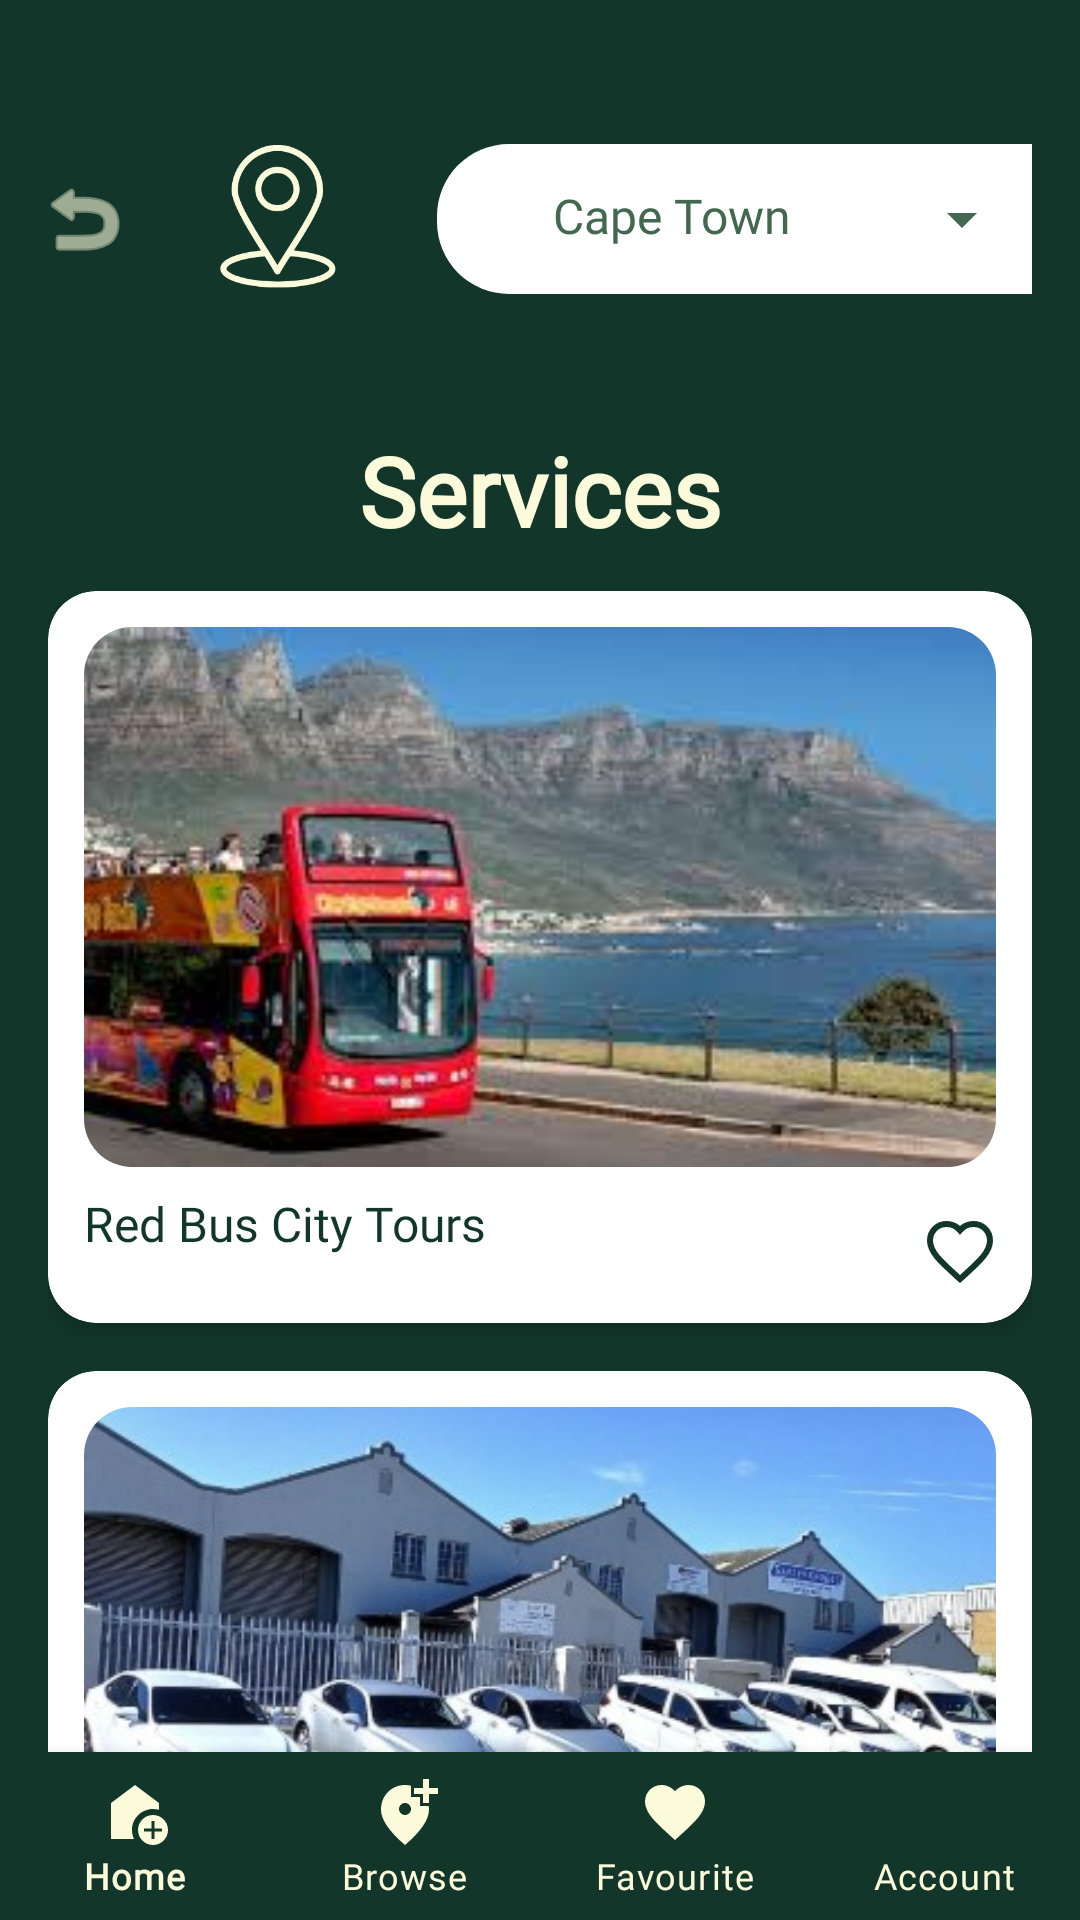

Icon bounding boxes for this 1080×1920 phone screenshot, format [x1=x1, y1=y1, x2=x2, y2=y2]:
Back: [x1=51, y1=188, x2=120, y2=251]
dropdown: [x1=947, y1=213, x2=977, y2=228]
favorite border: [x1=927, y1=1221, x2=993, y2=1283]
